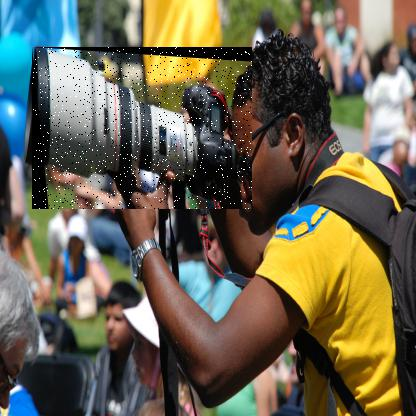Camera: (33, 48, 254, 211)
